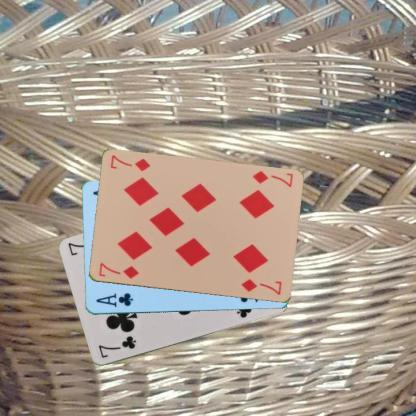7c: (96, 333, 138, 360)
7d: (250, 168, 294, 189), (96, 260, 140, 280)
Ac: (93, 290, 134, 309)
